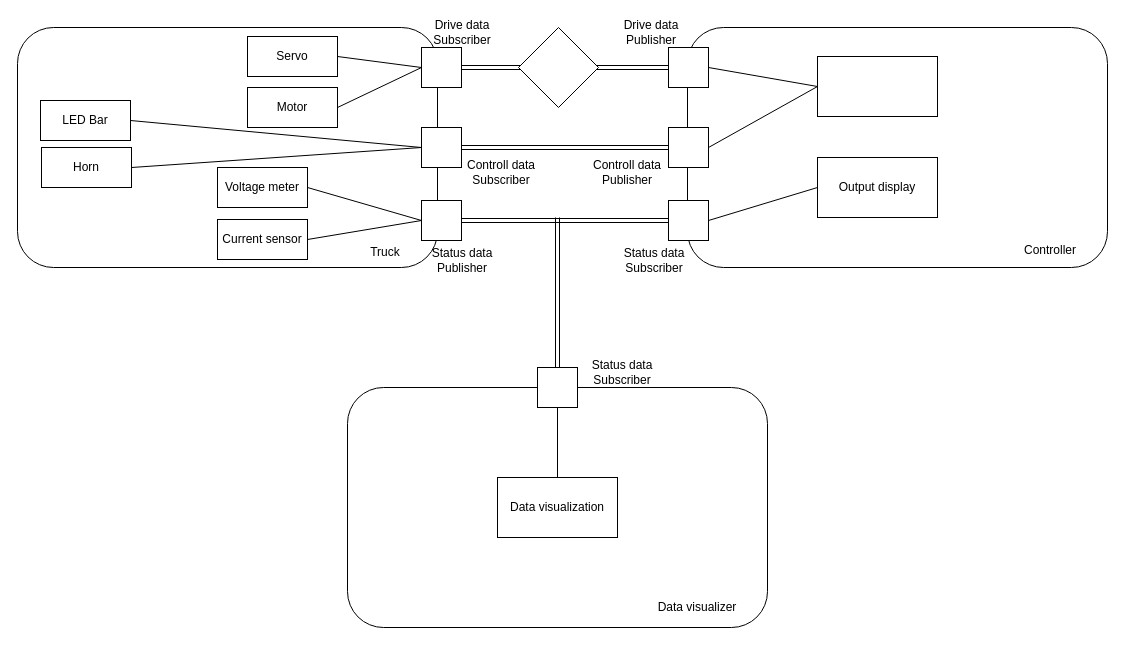
Image size: 1125x645. Some labels were removed from this diagram. The centre of each missing label's shape, as x and y in pixels:
Input processor: point 877,86
Secure: point 558,67
